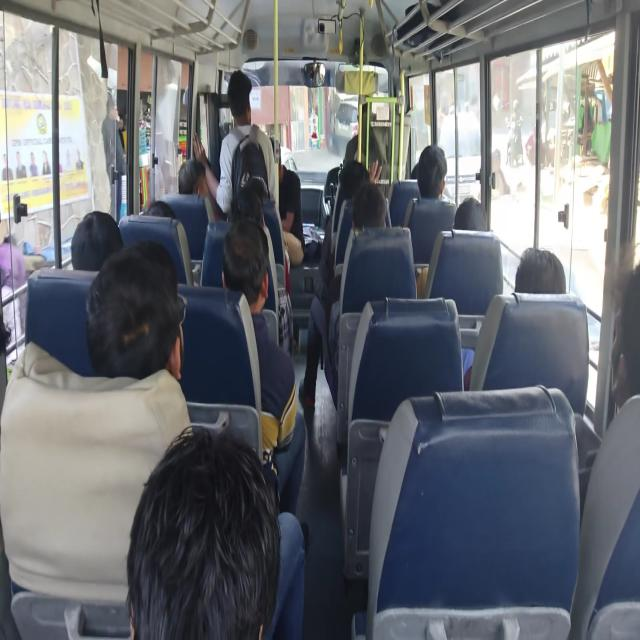person: (126, 425, 283, 637), (570, 256, 640, 630), (84, 243, 182, 385), (489, 248, 569, 402), (426, 188, 494, 318), (407, 148, 461, 250), (221, 216, 270, 306), (70, 210, 123, 275), (228, 67, 262, 156), (279, 149, 305, 263), (514, 248, 566, 296), (356, 186, 391, 240), (231, 181, 267, 231), (415, 144, 446, 200), (453, 196, 491, 232), (337, 158, 368, 202), (178, 158, 205, 196), (143, 200, 176, 220), (342, 135, 361, 168), (410, 161, 420, 181)
